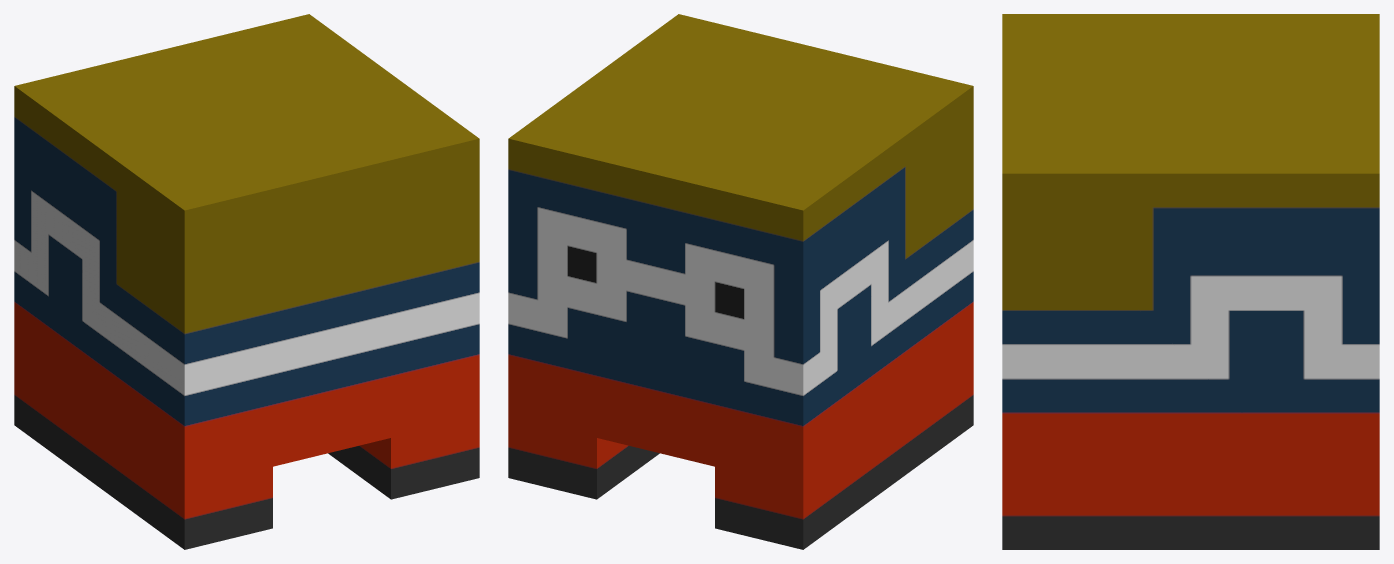
Rendered from Character_20.fbx.
3 renders of one model, left to right at view 1: azimuth 30°, elevation 25°; view 2: azimuth 150°, elevation 25°; view 3: azimuth 270°, elevation 25°, orthographic. The views are drawn at different scales.
Parts seen in each view (by area): view 1: Character_20; view 2: Character_20; view 3: Character_20.
Boxes of the visible parts, bbox=[...] form: Character_20: bbox=[14, 14, 479, 549]; Character_20: bbox=[508, 14, 973, 549]; Character_20: bbox=[1002, 14, 1379, 549].
Size of the model in its own units: 10 by 11 by 10.
1 material, 1 textured.
